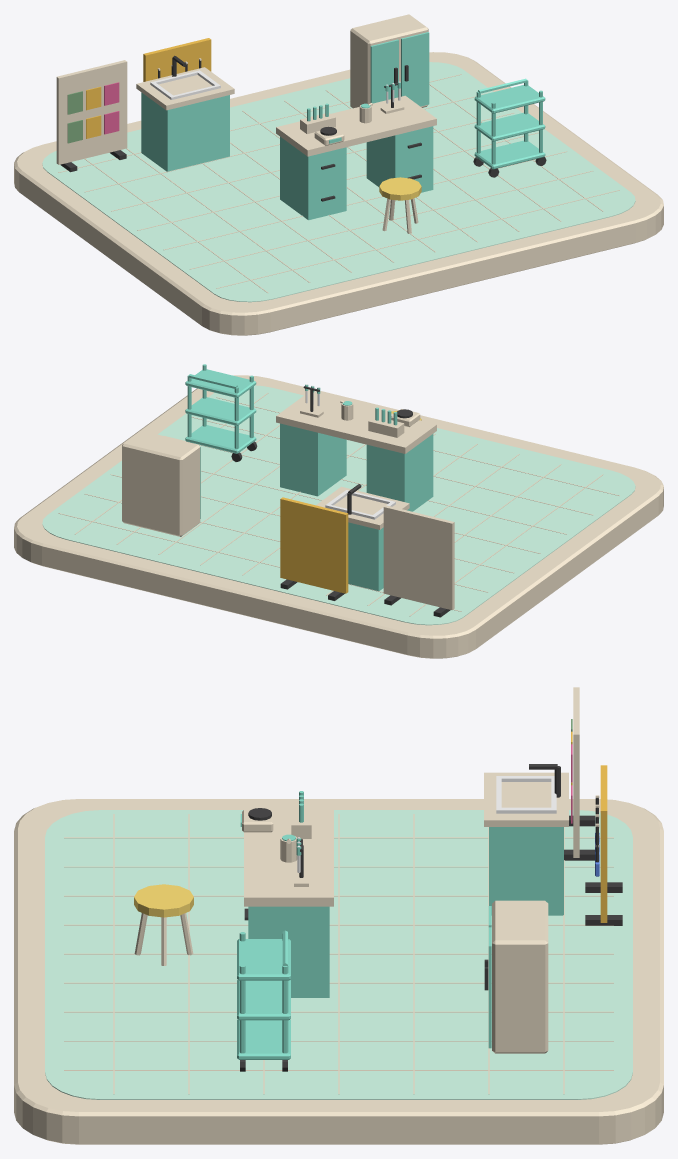
File: room.fbx
The picture shows the model from 3 angles, top to bottom: view 1: azimuth 30°, elevation 25°; view 2: azimuth 150°, elevation 25°; view 3: azimuth 270°, elevation 25°; orthographic projection. The views are drawn at different scales.
Visible parts, largest first — view 1: COM-02 Floor Surface, COM-01 Rounded Base Direct, Cabinet, Panel, Storage module, Worktop, Storage module.001, Equipment case, Counter, Door.001, Panel.001, Door (+7 smaller); view 2: COM-02 Floor Surface, COM-01 Rounded Base Direct, Equipment case, Panel, Panel.001, Worktop, Storage module.001, Storage module, Cabinet, Counter, Tray.001, Tray (+2 smaller); view 3: COM-02 Floor Surface, COM-01 Rounded Base Direct, Equipment case, Worktop, Cabinet, Storage module.001, Counter, Tray.002, Tray.001, Tray, Seat, Panel.001 (+7 smaller).
Boxes of the visible parts, box(x1,y1,x2,y2) form: COM-02 Floor Surface: box(42, 62, 635, 302); COM-01 Rounded Base Direct: box(14, 52, 663, 335); Cabinet: box(141, 92, 229, 171); Panel: box(56, 60, 127, 164); Storage module: box(280, 136, 346, 220); Worktop: box(276, 95, 436, 156); Storage module.001: box(366, 126, 433, 192); Equipment case: box(350, 14, 428, 108); Counter: box(136, 67, 234, 110); Door.001: box(401, 32, 429, 106); Panel.001: box(143, 38, 211, 81); Door: box(370, 39, 398, 103); COM-02 Floor Surface: box(42, 385, 635, 625); COM-01 Rounded Base Direct: box(14, 375, 663, 658); Equipment case: box(122, 430, 200, 536); Panel: box(383, 505, 454, 609); Panel.001: box(280, 497, 348, 593); Worktop: box(276, 393, 436, 453); Storage module.001: box(280, 423, 346, 496); Storage module: box(366, 434, 433, 511); Cabinet: box(348, 522, 383, 591); Counter: box(316, 486, 409, 529); Tray.001: box(185, 397, 256, 425); Tray: box(185, 425, 256, 453); COM-02 Floor Surface: box(45, 810, 632, 1099); COM-01 Rounded Base Direct: box(14, 799, 663, 1144); Equipment case: box(492, 900, 548, 1053); Worktop: box(244, 807, 333, 906); Cabinet: box(489, 827, 563, 915); Storage module.001: box(248, 906, 329, 997); Counter: box(484, 772, 568, 826); Tray.002: box(237, 939, 290, 980); Tray.001: box(237, 980, 290, 1020); Tray: box(237, 1019, 290, 1059); Seat: box(134, 884, 193, 917); Panel.001: box(600, 765, 607, 922).
Bounding box in the file's own units: 600 × 154 × 520.
